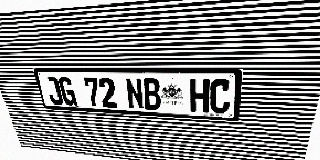2: (98, 77, 118, 108)
7: (82, 77, 102, 107)
B: (142, 78, 161, 110)
C: (209, 79, 231, 114)
G: (57, 77, 78, 106)
H: (190, 79, 210, 113)
J: (44, 77, 64, 105)
N: (125, 78, 144, 109)
